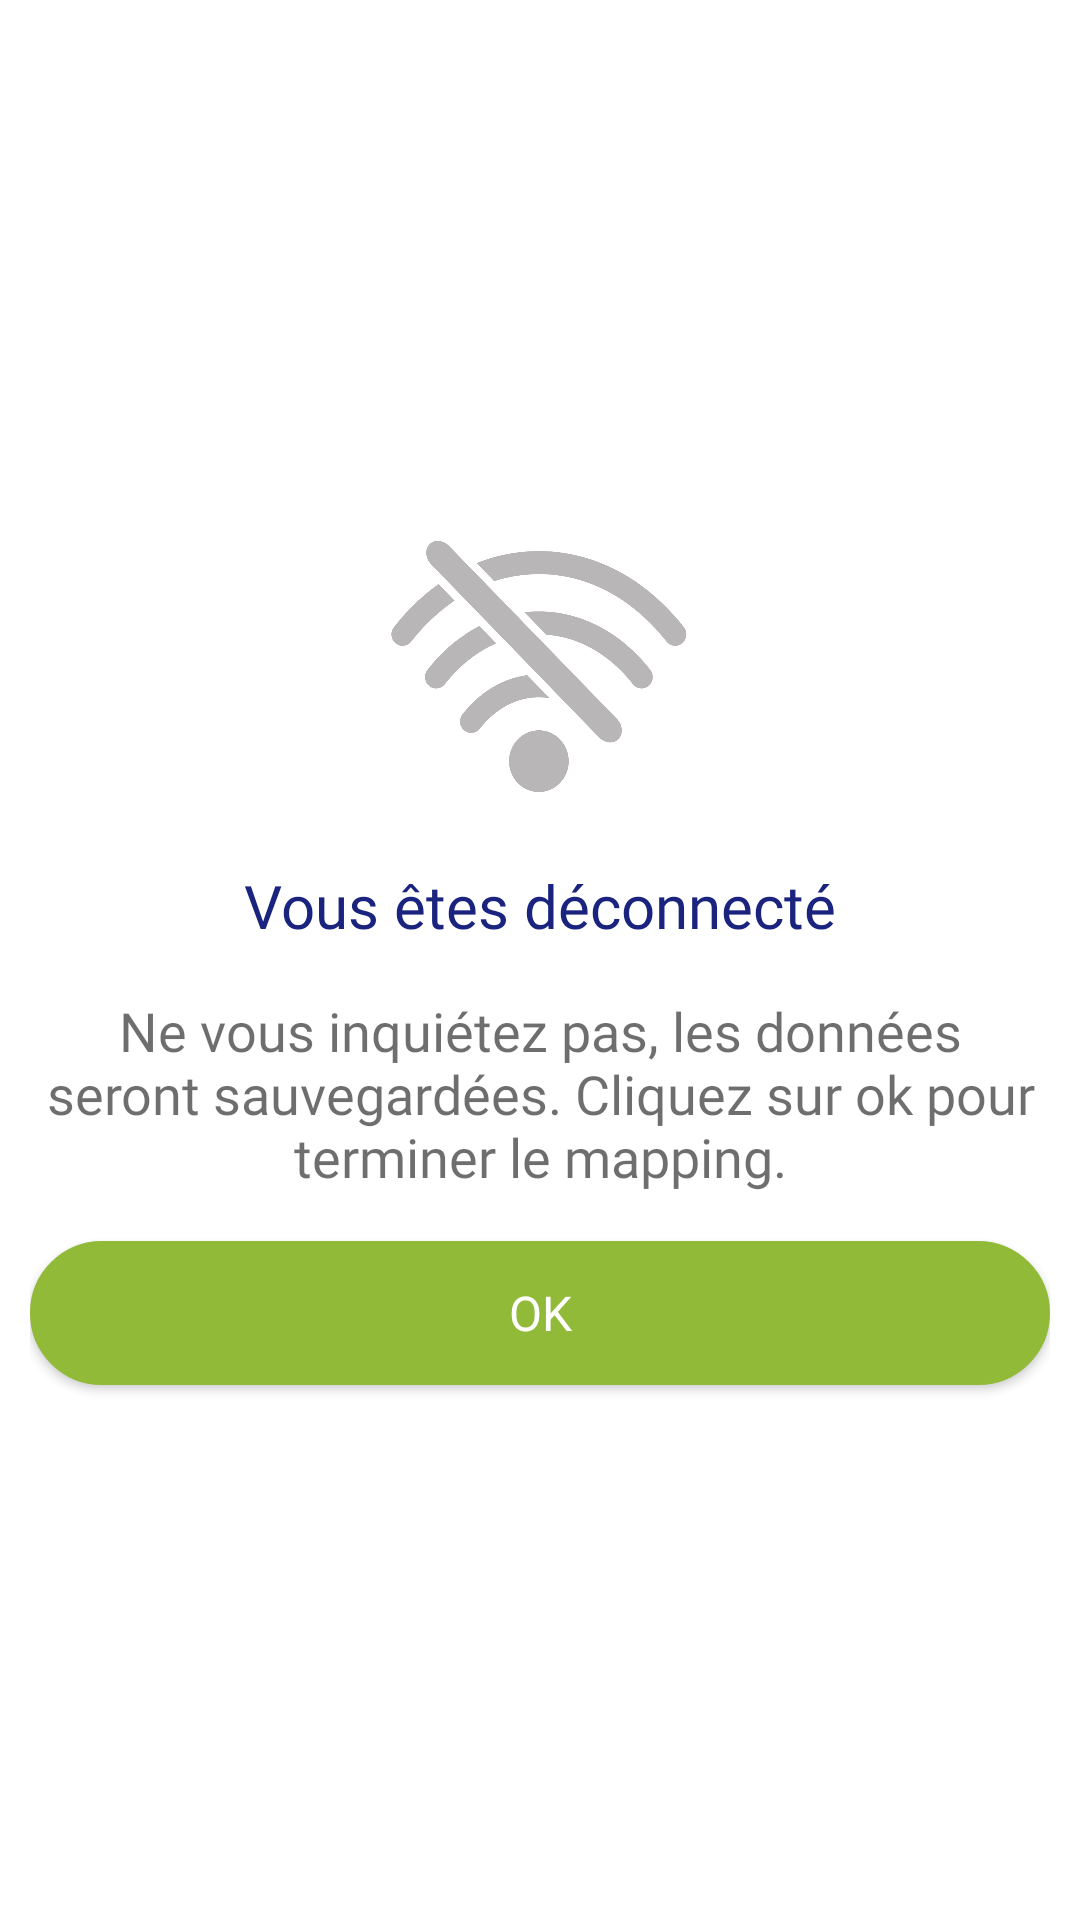

Where icons sit on this 1080 x 1920 app screen, as bbox=(x1, y1, x2, y2):
no wifi: bbox=(391, 541, 686, 792)
